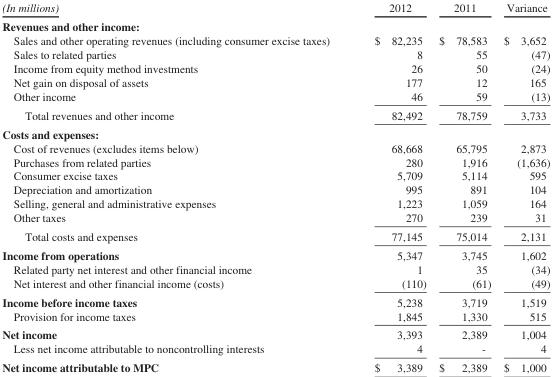table: (1, 1, 549, 373)
table column: (1, 1, 351, 373), (351, 1, 432, 373), (432, 1, 496, 373), (496, 1, 549, 373)
table column header: (1, 1, 549, 16)
table projected row header: (1, 16, 549, 33), (1, 124, 549, 140)
table row: (1, 105, 549, 124), (1, 226, 549, 245), (1, 16, 549, 33), (1, 245, 549, 262), (1, 275, 549, 292), (1, 324, 549, 341), (1, 89, 549, 105), (1, 124, 549, 140), (1, 210, 549, 226), (1, 292, 549, 308), (1, 308, 549, 324), (1, 341, 549, 357), (1, 357, 549, 373), (1, 1, 549, 16), (1, 33, 549, 47), (1, 47, 549, 61), (1, 61, 549, 75), (1, 75, 549, 89), (1, 140, 549, 154), (1, 154, 549, 168), (1, 168, 549, 182), (1, 182, 549, 196), (1, 196, 549, 210), (1, 262, 549, 275)
